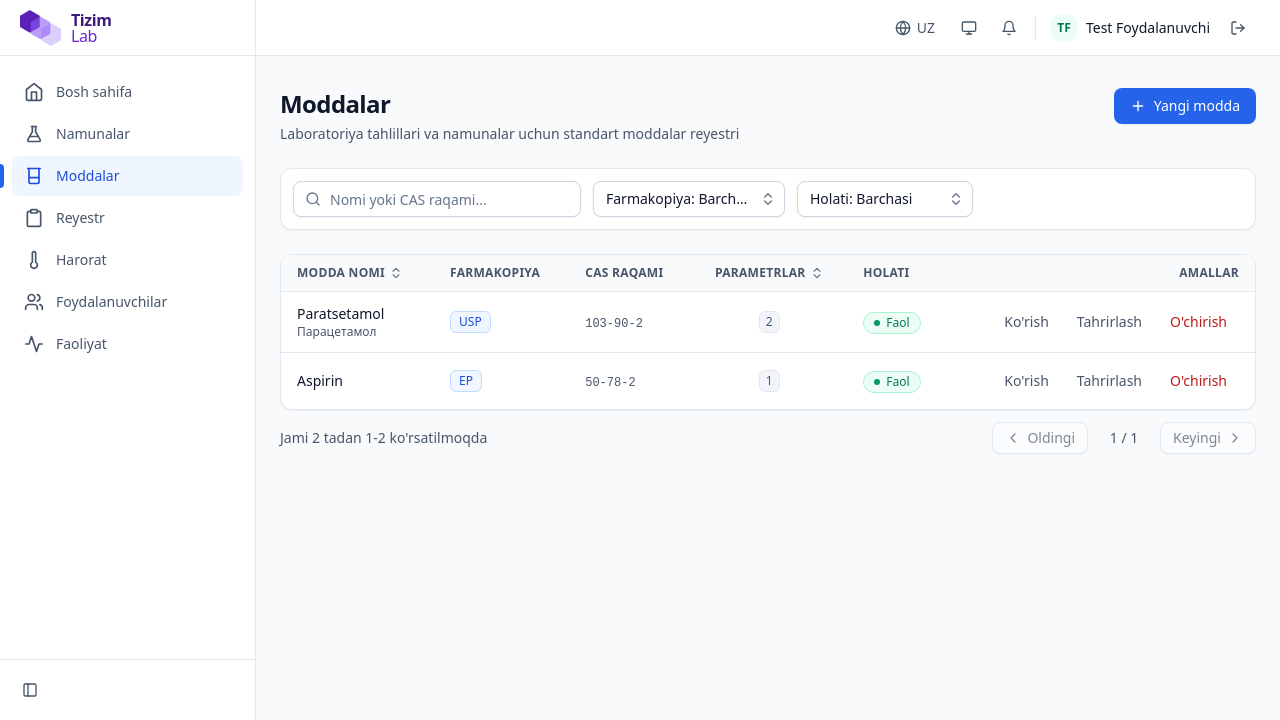
it: SubstancesPage & Components › moddani o‘chirish: admin tasdiqlash modali orqali o‘chiradi
Click the button "O'chirish" in the row of "Paratsetamol": {"x": 1198, "y": 322} [1158, 306, 1239, 338]
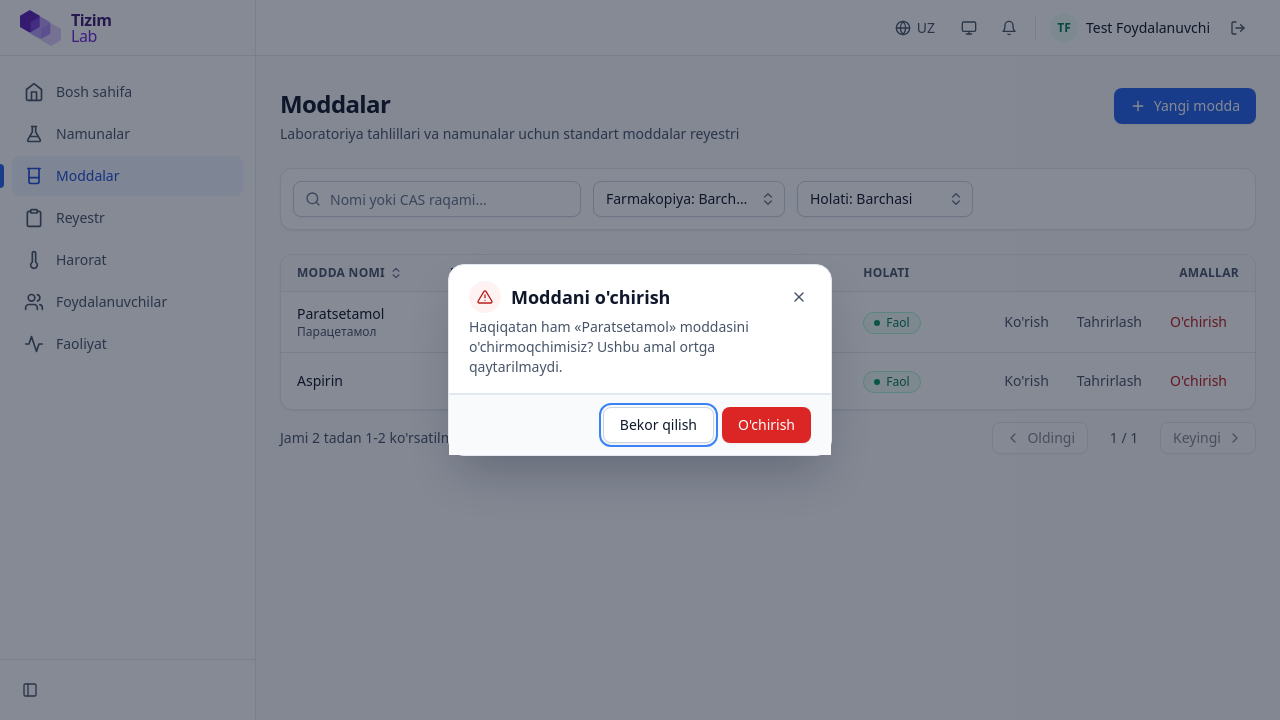
Expected: the heading "Moddani o'chirish" is shown, [469, 281, 670, 313]
Expected: the text "Haqiqatan ham «Paratsetamol»" is shown, [469, 317, 749, 376]
Click the button "O'chirish": {"x": 766, "y": 425} [722, 407, 811, 443]
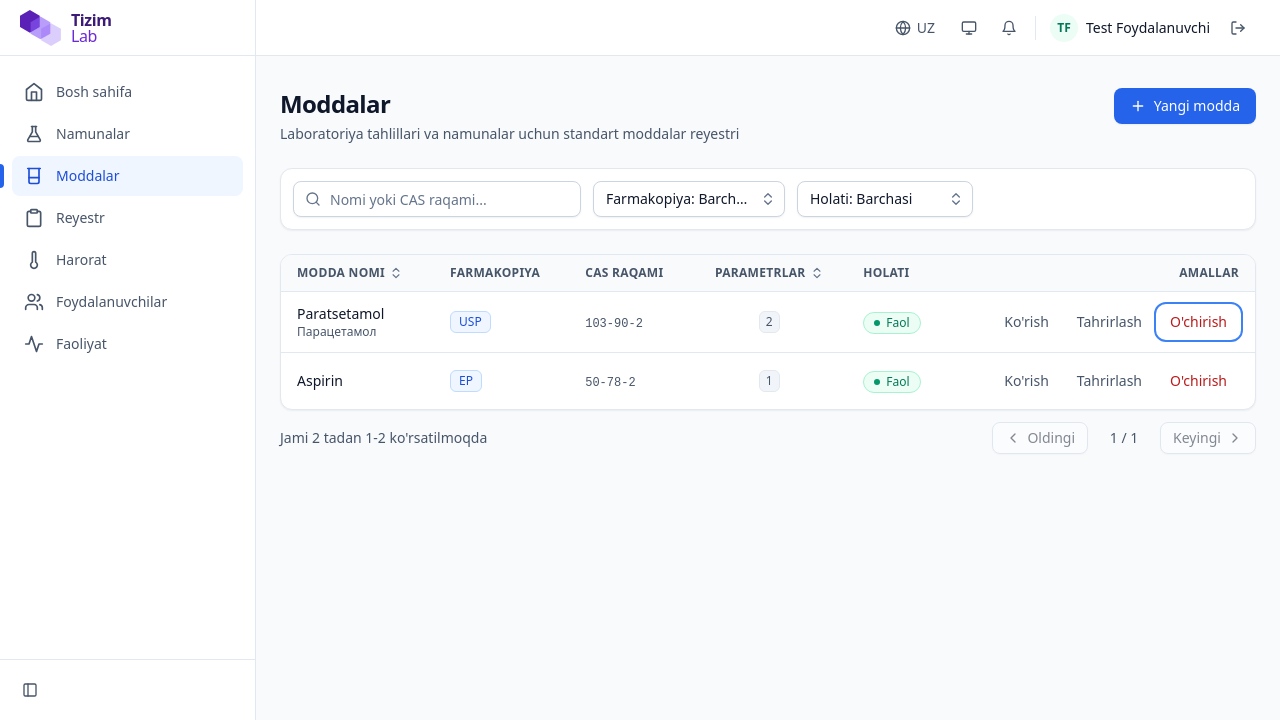
Expected: the heading "Moddani o'chirish" is gone
